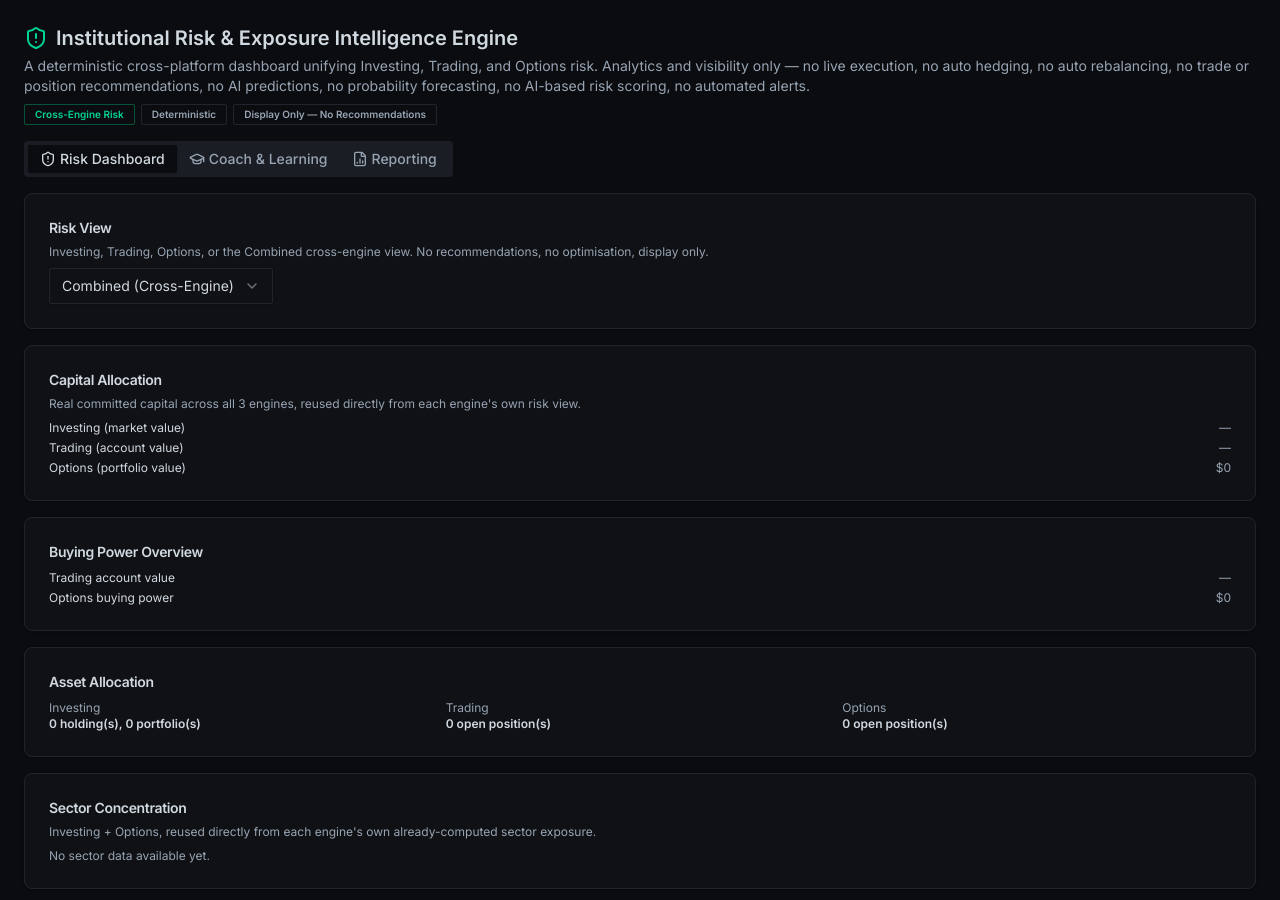
RiskExposureEngine › renders the Coach & Learning tab with real topics and Learning Centre links, never a trade recommendation
Click the tab with test id "tab-ree-learning": {"x": 258, "y": 159} [177, 145, 340, 173]
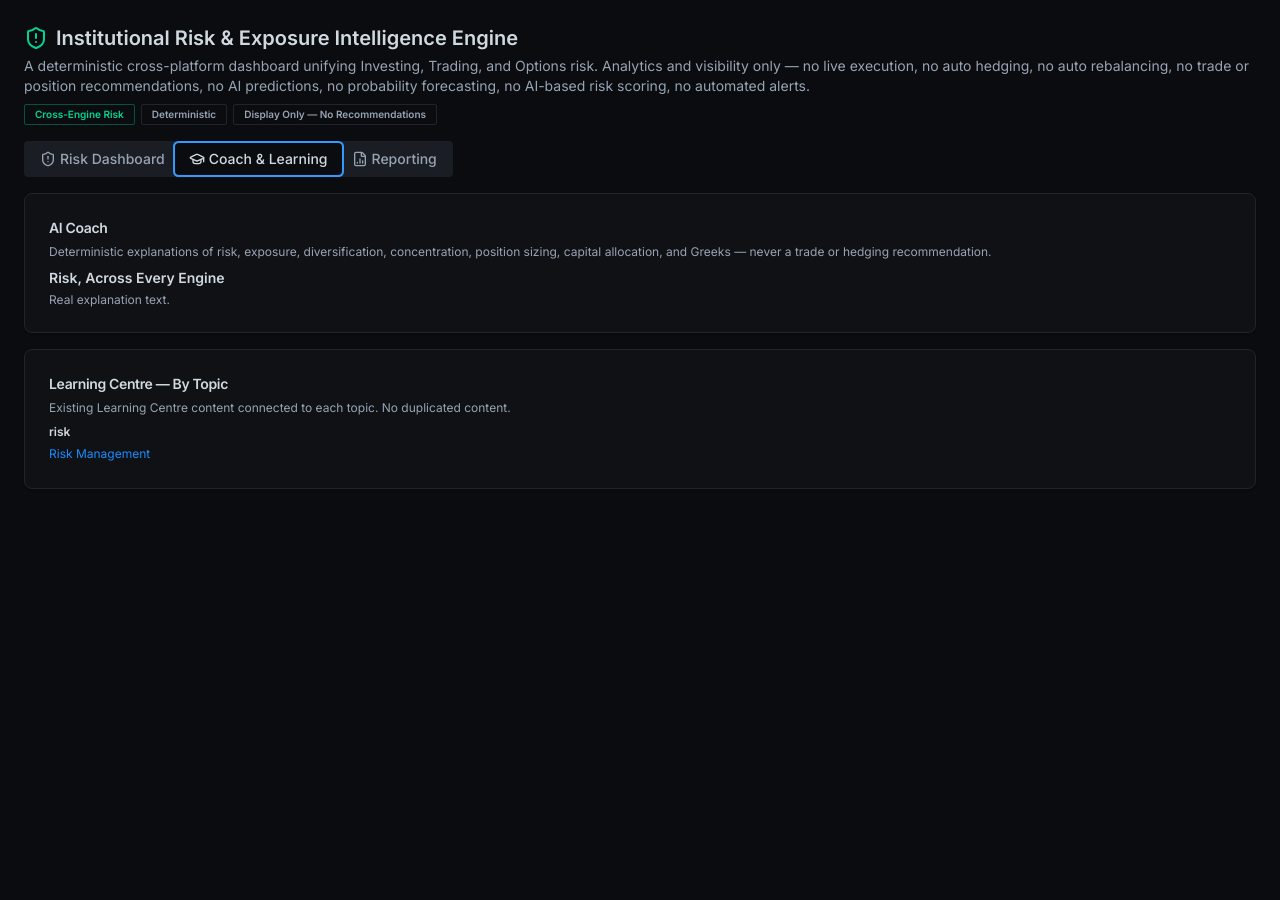
Result: the element with test id "coach-topic-risk" is shown at [49, 269, 224, 307]
Result: the element with test id "learning-topic-risk" is shown at [49, 424, 150, 461]
Result: the link with test id "learning-link-trading-engine-trading-risk-management" is shown at [49, 446, 150, 461]
